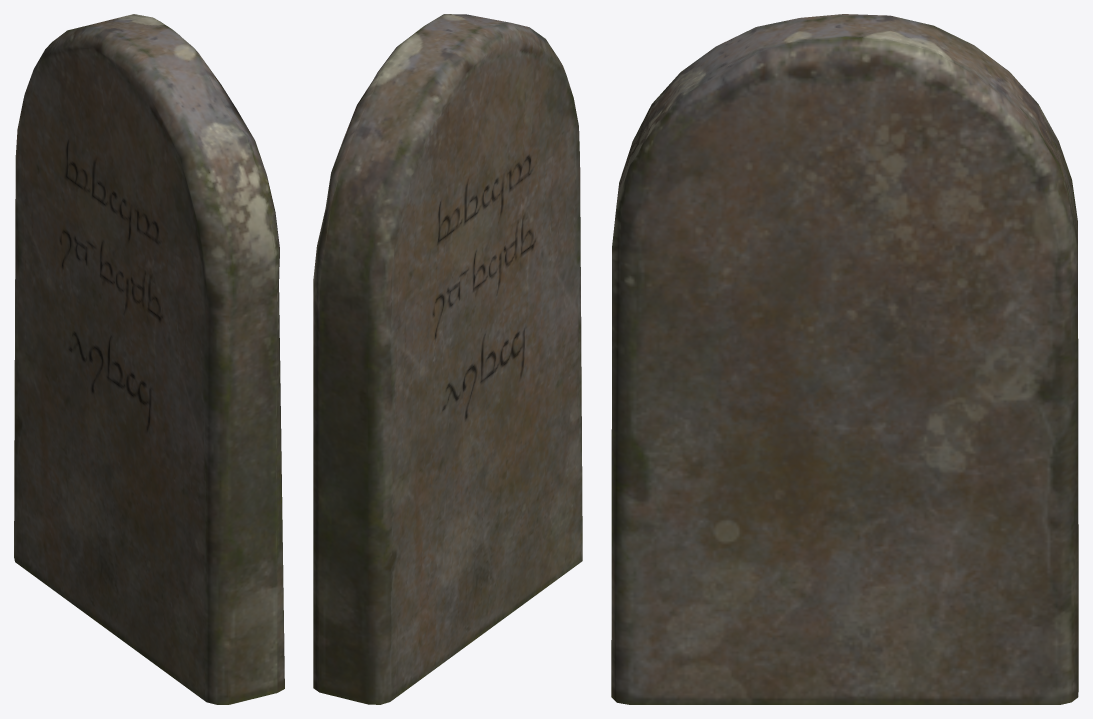
Rendered from SM_TombsC_001.fbx.
3 views of the same model, side by side, from view 1: azimuth 30°, elevation 25°; view 2: azimuth 150°, elevation 25°; view 3: azimuth 270°, elevation 25° (orthographic). The views are drawn at different scales.
Visible parts, largest first — view 1: SM_TombsC_001_LOD0; view 2: SM_TombsC_001_LOD0; view 3: SM_TombsC_001_LOD0.
Boxes of the visible parts, left/top/right/bottom form: SM_TombsC_001_LOD0: left=14, top=14, right=284, bottom=704; SM_TombsC_001_LOD0: left=313, top=14, right=582, bottom=704; SM_TombsC_001_LOD0: left=611, top=14, right=1078, bottom=704.
Size of the model in its own units: 10.11 by 47.32 by 73.75.
1 material, 1 textured.
